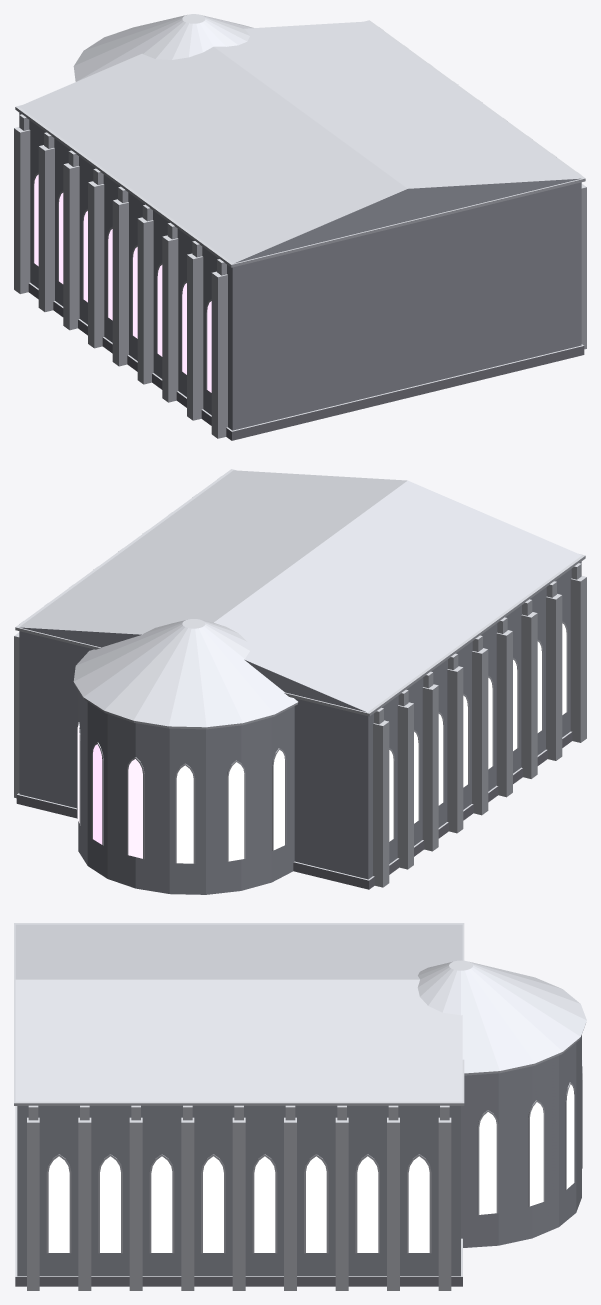
Rendered from AR_Basilica_Corpo.fbx.
The picture shows the model from 3 angles, top to bottom: view 1: azimuth 30°, elevation 25°; view 2: azimuth 150°, elevation 25°; view 3: azimuth 270°, elevation 25°; orthographic projection. The views are drawn at different scales.
Parts seen in each view (by area): view 1: AR_Basilica_Corpo; view 2: AR_Basilica_Corpo; view 3: AR_Basilica_Corpo.
Boxes of the visible parts, <box> form: AR_Basilica_Corpo: <box>14,14,586,440</box>; AR_Basilica_Corpo: <box>14,469,586,894</box>; AR_Basilica_Corpo: <box>14,923,586,1290</box>.
Size of the model in its own units: 110 by 63.3 by 142.
